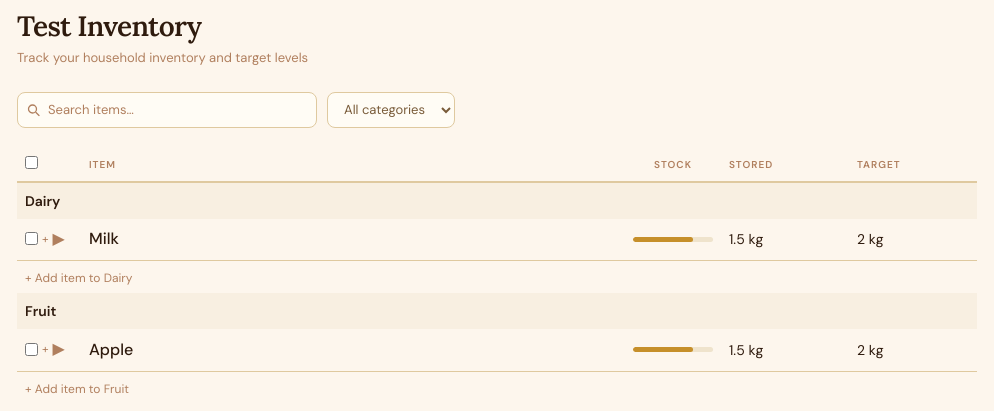
Test: InventoryPage › filters items by search text
The width and height of the screenshot is (994, 411).
Expected: the text "Apple" is shown, [89,339,133,360]
Expected: the text "Milk" is shown, [89,228,119,249]
Type "Apple" into the search field with placeholder "Search items…" at (167,110), box [17,92,317,128]
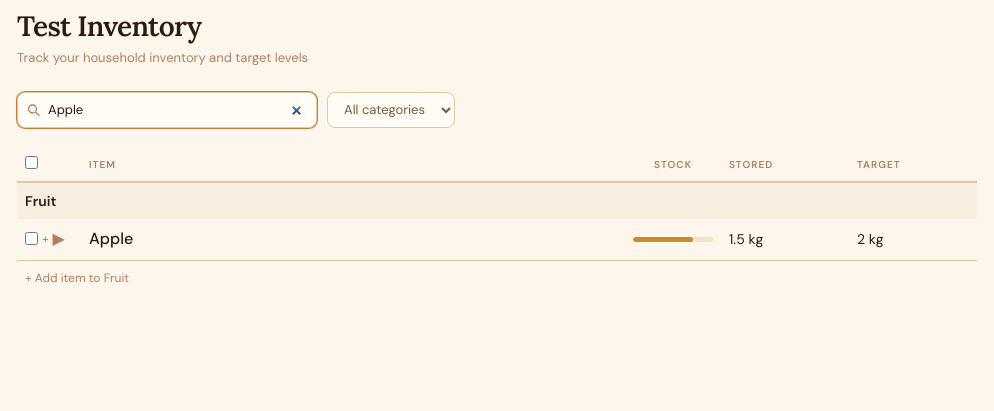
Expected: the text "Apple" is shown, [89,228,133,249]
Expected: the text "Milk" is gone
